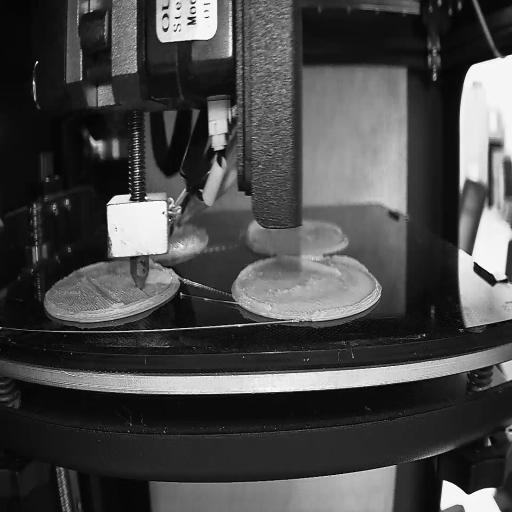over_extrusion: (285, 254, 371, 280), (231, 256, 277, 301)
